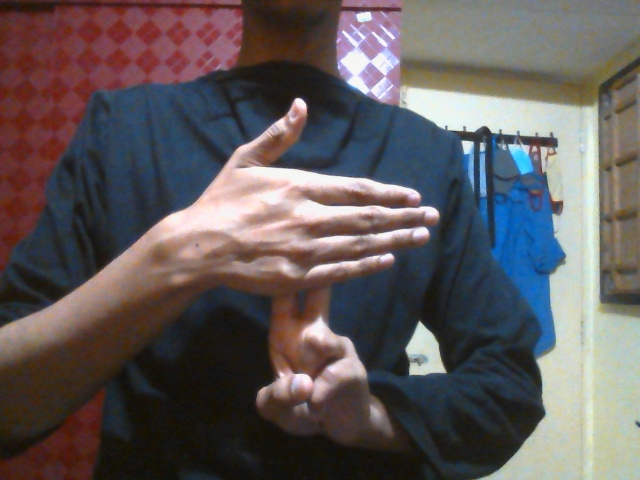N: (198, 94, 439, 455)
